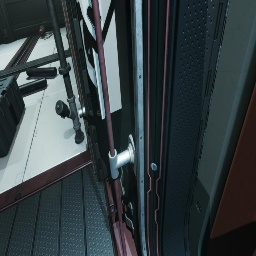NitrogenTank ,: (39, 25, 45, 37)
SafetySwitchPanel ,: (76, 0, 122, 120)
